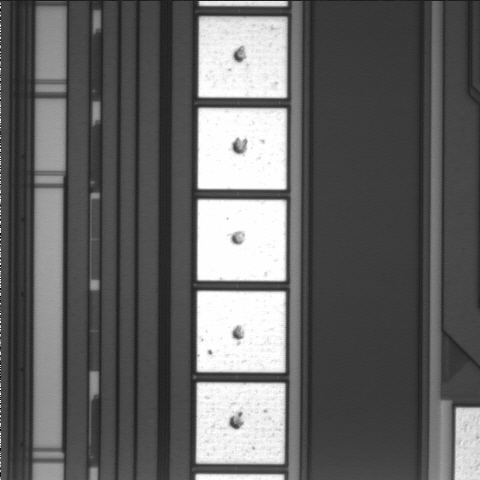pad: (198, 108, 287, 190), (197, 199, 286, 281), (198, 17, 287, 98), (197, 291, 286, 372), (196, 383, 285, 464)
